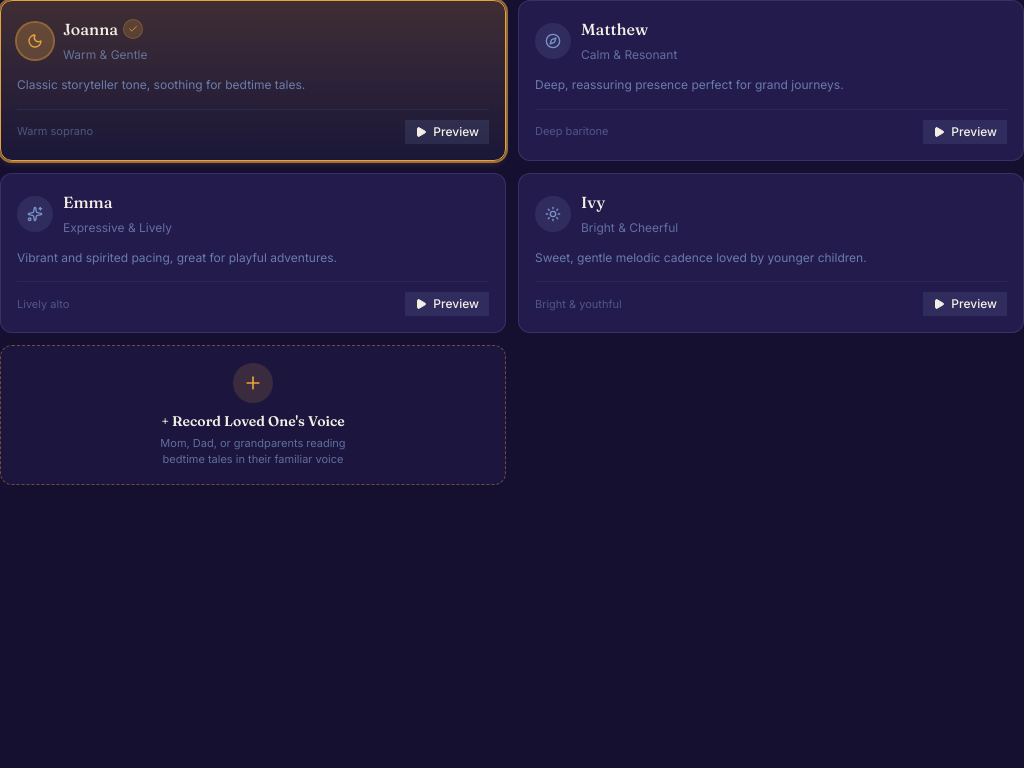
Scenario: Personalized Voice Clones (Family Voice Studio) › VoiceSelector with Custom Voices › opens Family Voice Studio when + Record Loved One's Voice is clicked
Click the button with test id "record-family-voice-btn": (253, 415) [0,345,506,485]
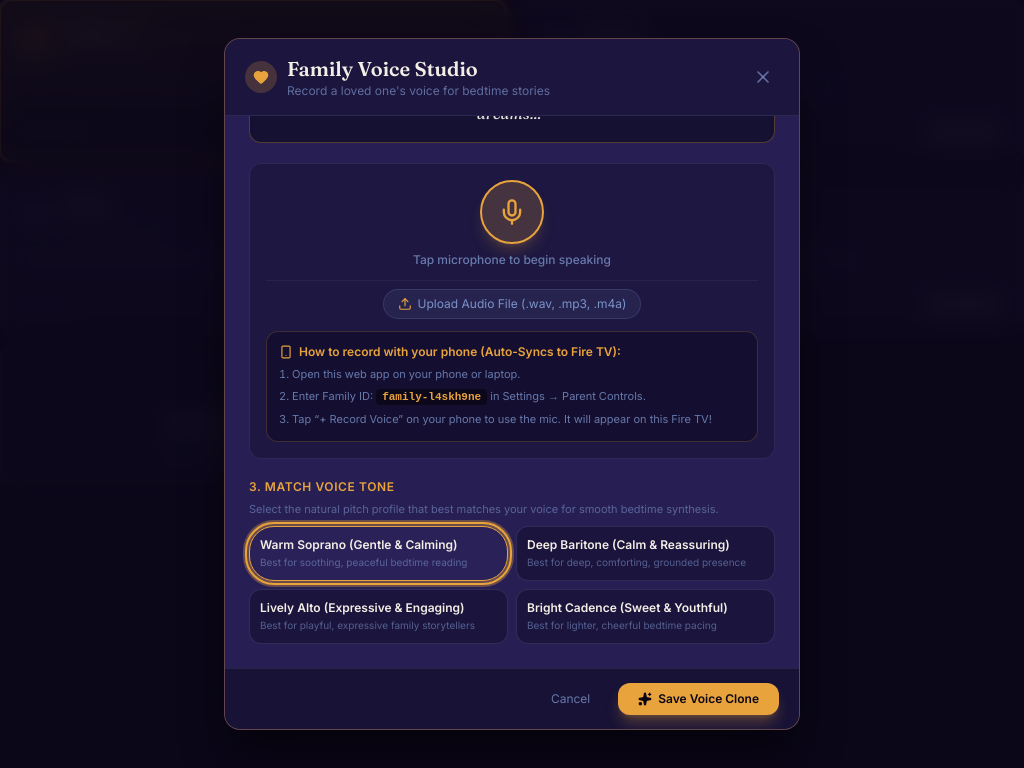
Now the dialog is shown
Now the heading "Family Voice Studio" is shown, box [287,56,478,81]
